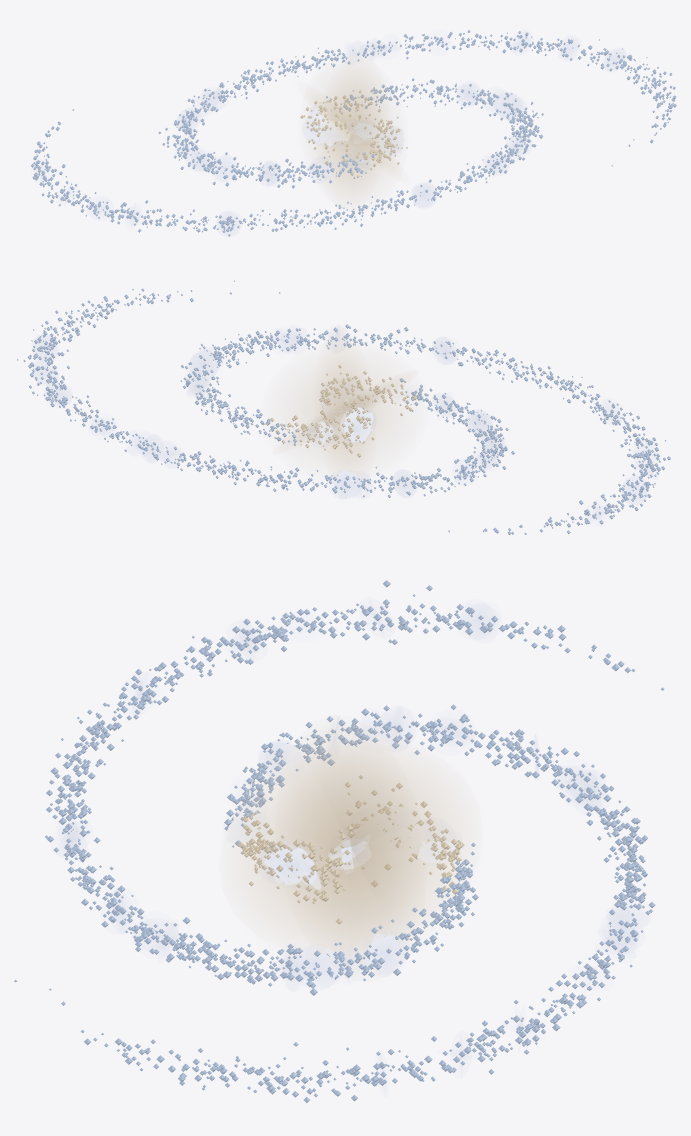
The picture shows the model from 3 angles, top to bottom: view 1: azimuth 30°, elevation 25°; view 2: azimuth 150°, elevation 25°; view 3: azimuth 270°, elevation 25°; orthographic projection. The views are drawn at different scales.
Bounding box in the file's own units: 7.2 × 1.78 × 4.05.
